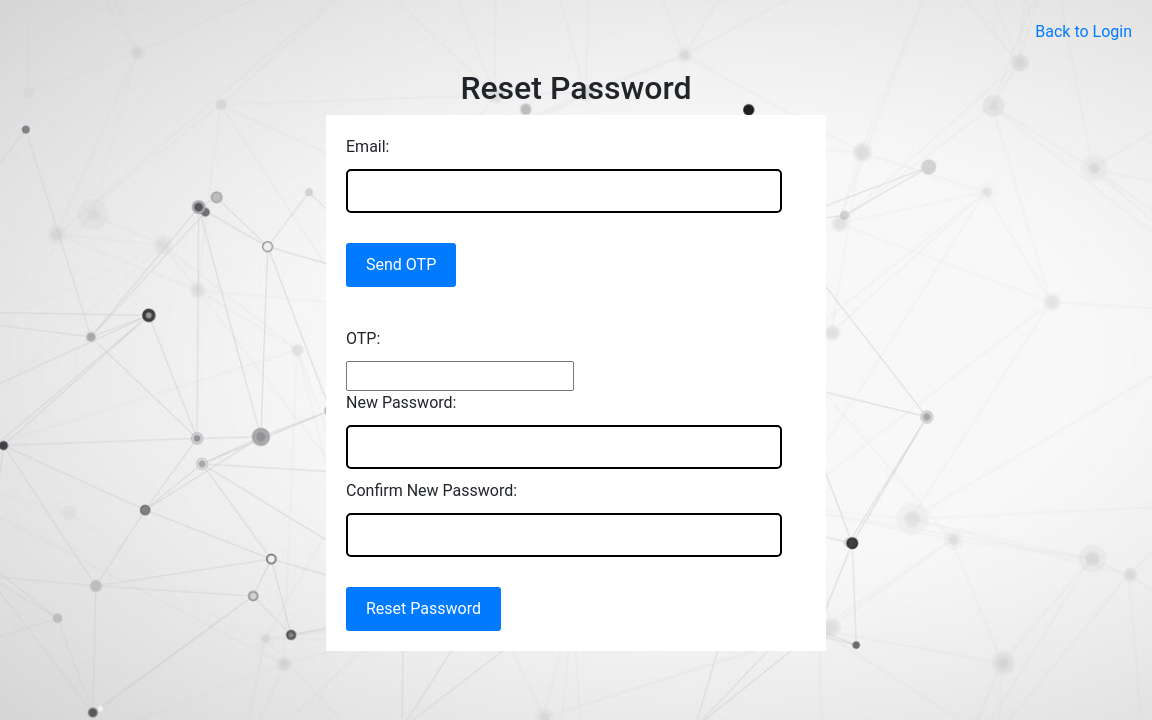
ResetPasswordPage component › updates confirm password state correctly and validates matching password
In the password field labelled "New Password:": (564, 447) [346,425,782,469], type "strongPassword1!"
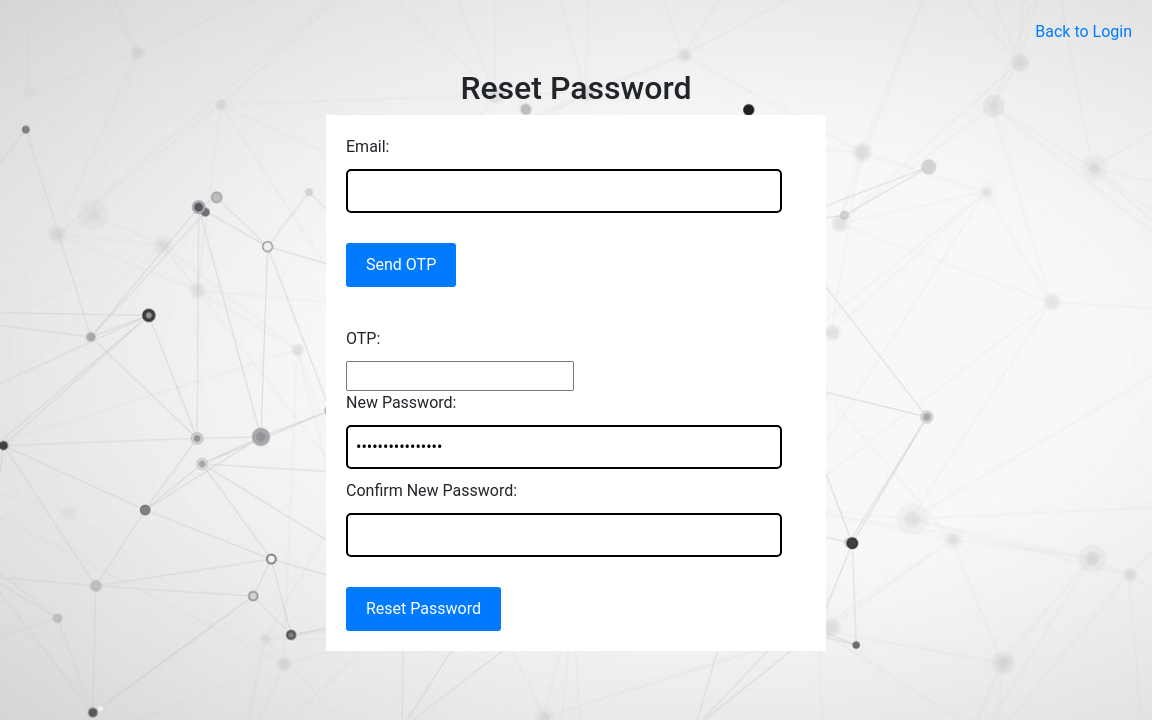
In the password field labelled "Confirm New Password:": (564, 535) [346,513,782,557], type "password123"
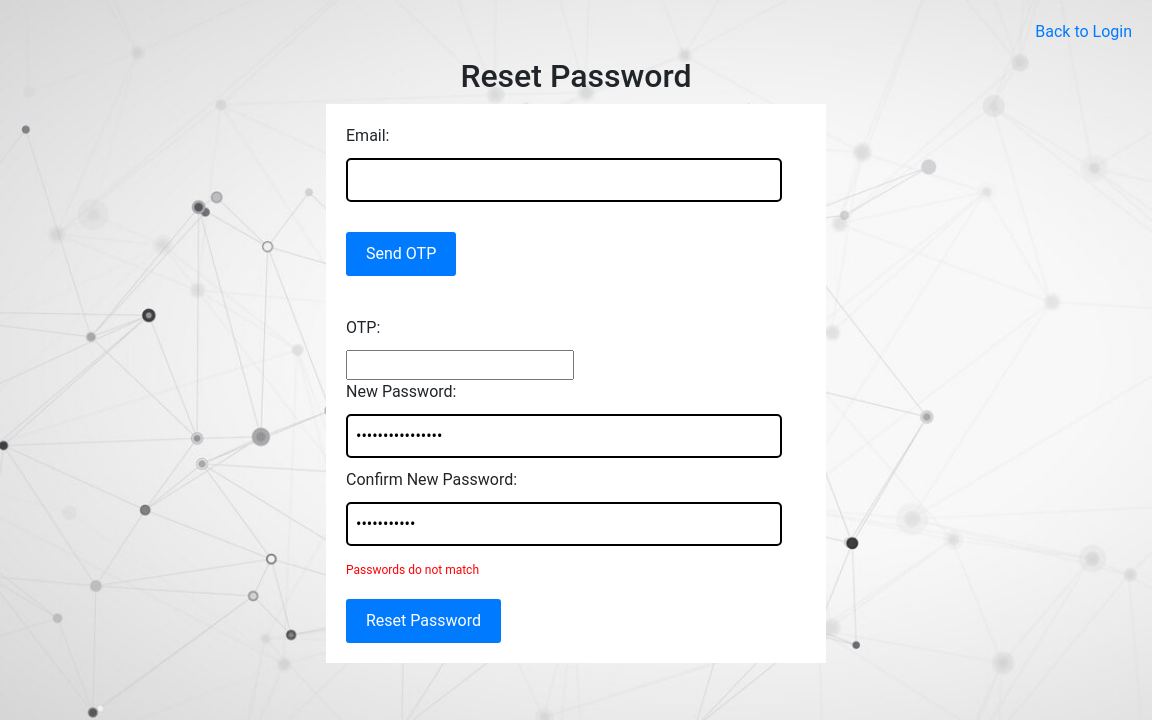
expect the text "Passwords do not match" is shown: met, box [346,563,479,577]
